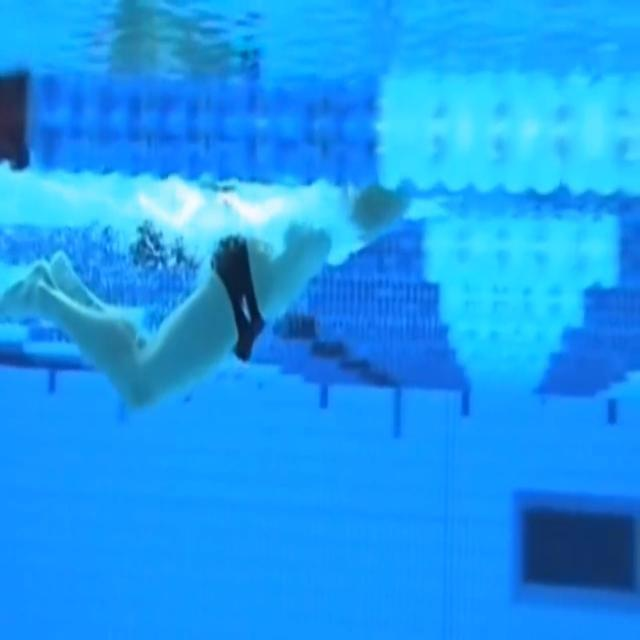Swimming: (0, 180, 416, 408)
